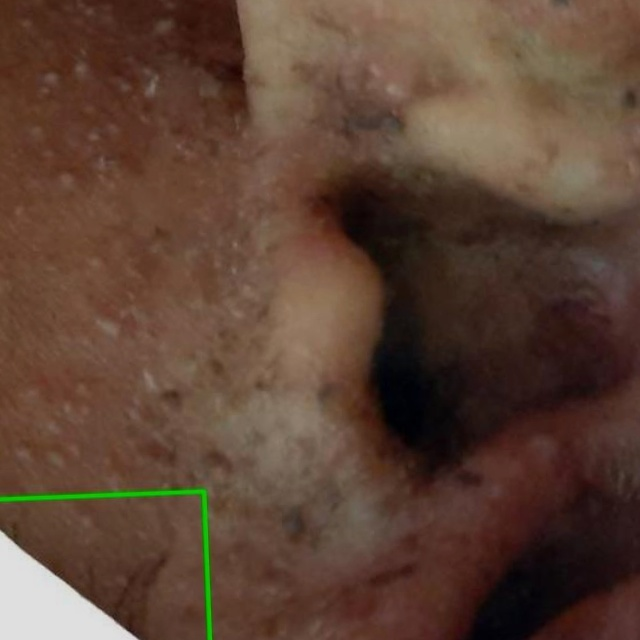Contact Dermatitis: (0, 491, 209, 639)
